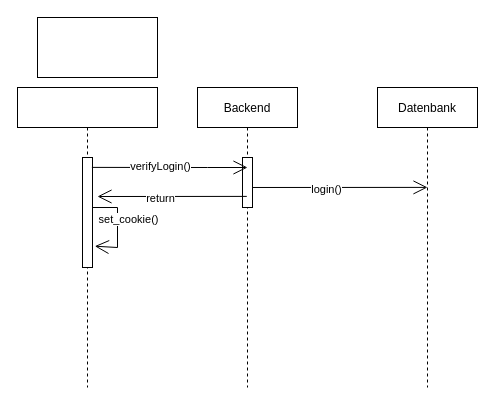
Image size: 495x405. Some labels were removed from this diagram. Here are the shapes that lost their labels. From the top down, the centre of each, then its label:
At point (97, 47): "Login".
At point (87, 237): "Frontend".
